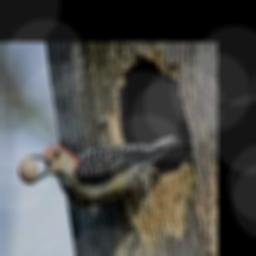Woodpecker: (24, 134, 180, 206)
